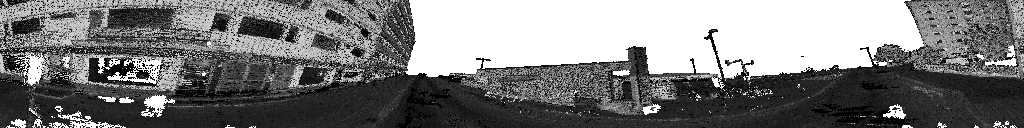gantry_sign_pole: (725, 60, 753, 75)
light_pole: (704, 30, 719, 60), (860, 48, 874, 66), (476, 58, 490, 67), (690, 59, 695, 74)
traffic_pole: (21, 50, 47, 127), (712, 78, 728, 112)
